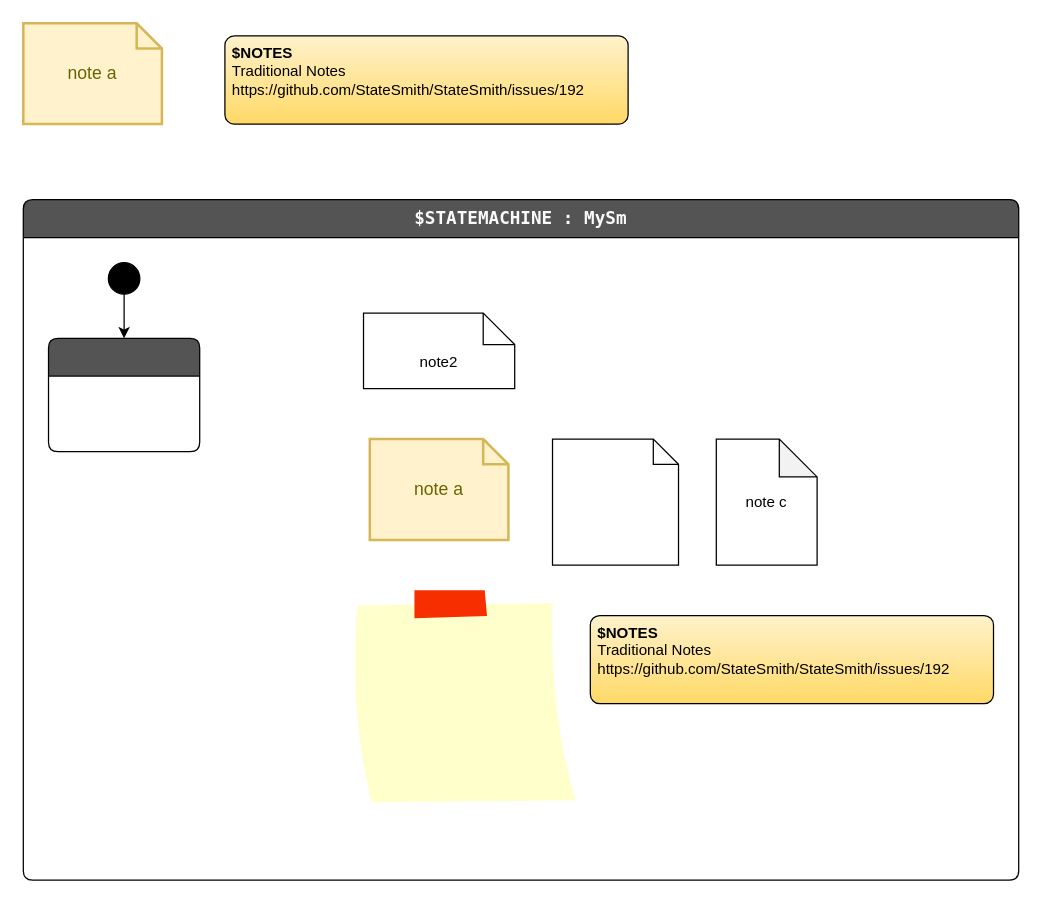
Image size: 1041x902. Some labels were removed from this diagram. Here are the shapes that lost their labels. From the top down, the box of each, then its label:
(47, 337, 200, 452): STATE_1
(551, 438, 679, 565): note b
(350, 589, 578, 805): stickyNote2
